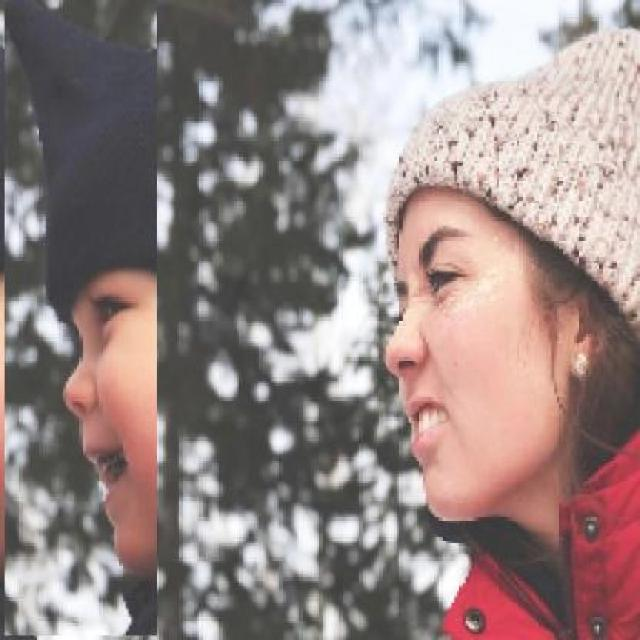adult: (388, 29, 640, 640)
child: (3, 0, 157, 637)
